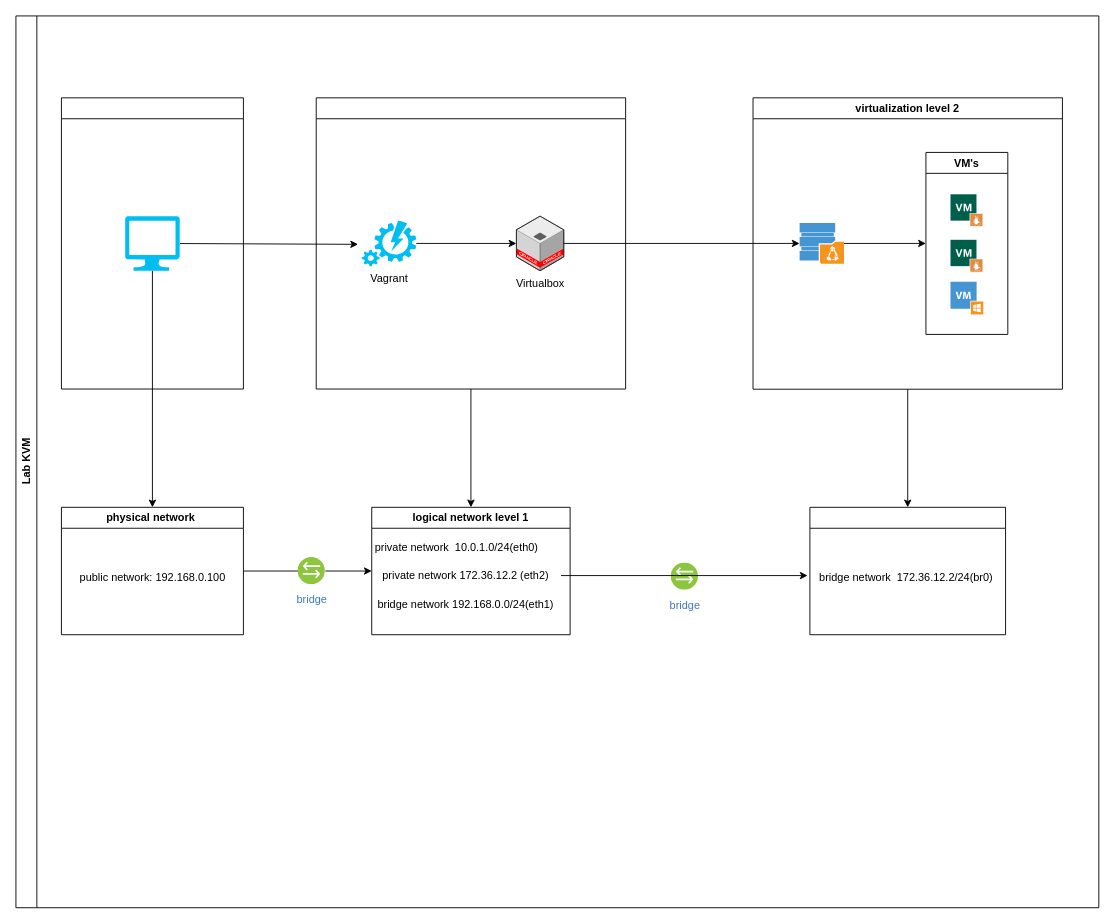
Image size: 1115x924. Some labels were removed from this diagram. The box of each missing label's shape, as (x1, y1, x2, y2) in pixels:
Desktop: (125, 216, 179, 270)
KVM QEMU: (799, 223, 844, 263)
logical network level 2: (809, 506, 1006, 635)
physical level: (61, 97, 243, 389)
virtualization level 1: (315, 97, 626, 389)
